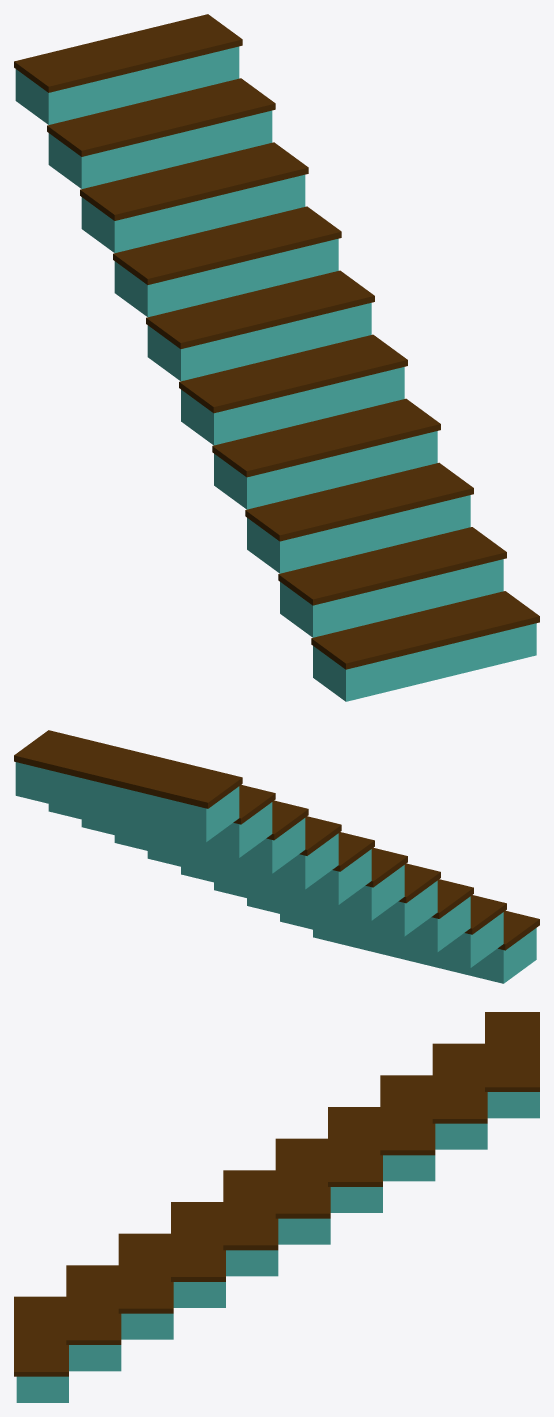
Rendered from Stairs.fbx.
The picture shows the model from 3 angles, top to bottom: view 1: azimuth 30°, elevation 25°; view 2: azimuth 150°, elevation 25°; view 3: azimuth 270°, elevation 25°; orthographic projection. The views are drawn at different scales.
Visible parts, largest first — view 1: Cube_5_2, Cube_6_2, Cube_8_2, Cube_9_2, Cube_7_2, Cube_2_2, Cube_3_2, Cube_4_2, Cube_0_2, Cube_1_2; view 2: Cube_9_2, Cube_6_2, Cube_5_2, Cube_7_2, Cube_8_2, Cube_0_2, Cube_3_2, Cube_4_2, Cube_1_2, Cube_2_2; view 3: Cube_9_2, Cube_4_2, Cube_7_2, Cube_2_2, Cube_5_2, Cube_8_2, Cube_1_2, Cube_0_2, Cube_3_2, Cube_6_2.
Boxes of the visible parts, box(x1,y1,x2,y2) form: Cube_5_2: box(146, 270, 374, 381); Cube_6_2: box(113, 206, 341, 317); Cube_8_2: box(47, 78, 275, 188); Cube_9_2: box(14, 14, 242, 124); Cube_7_2: box(80, 142, 308, 252); Cube_2_2: box(245, 462, 473, 573); Cube_3_2: box(212, 398, 440, 509); Cube_4_2: box(179, 334, 407, 445); Cube_0_2: box(311, 591, 539, 701); Cube_1_2: box(278, 527, 506, 637); Cube_9_2: box(14, 730, 242, 842); Cube_6_2: box(114, 816, 341, 889); Cube_5_2: box(147, 832, 374, 904); Cube_7_2: box(81, 800, 308, 873); Cube_8_2: box(48, 784, 275, 857); Cube_0_2: box(313, 910, 539, 983); Cube_3_2: box(214, 863, 440, 936); Cube_4_2: box(181, 847, 407, 920); Cube_1_2: box(280, 895, 506, 967); Cube_2_2: box(247, 879, 473, 952); Cube_9_2: box(485, 1012, 539, 1118); Cube_4_2: box(223, 1170, 278, 1276); Cube_7_2: box(380, 1075, 435, 1181); Cube_2_2: box(118, 1233, 173, 1339); Cube_5_2: box(275, 1138, 330, 1244); Cube_8_2: box(432, 1043, 487, 1149); Cube_1_2: box(66, 1265, 121, 1371); Cube_0_2: box(14, 1296, 68, 1402); Cube_3_2: box(171, 1202, 225, 1307); Cube_6_2: box(328, 1107, 382, 1212).
Bounding box in the file's own units: 102 × 200 × 301.
